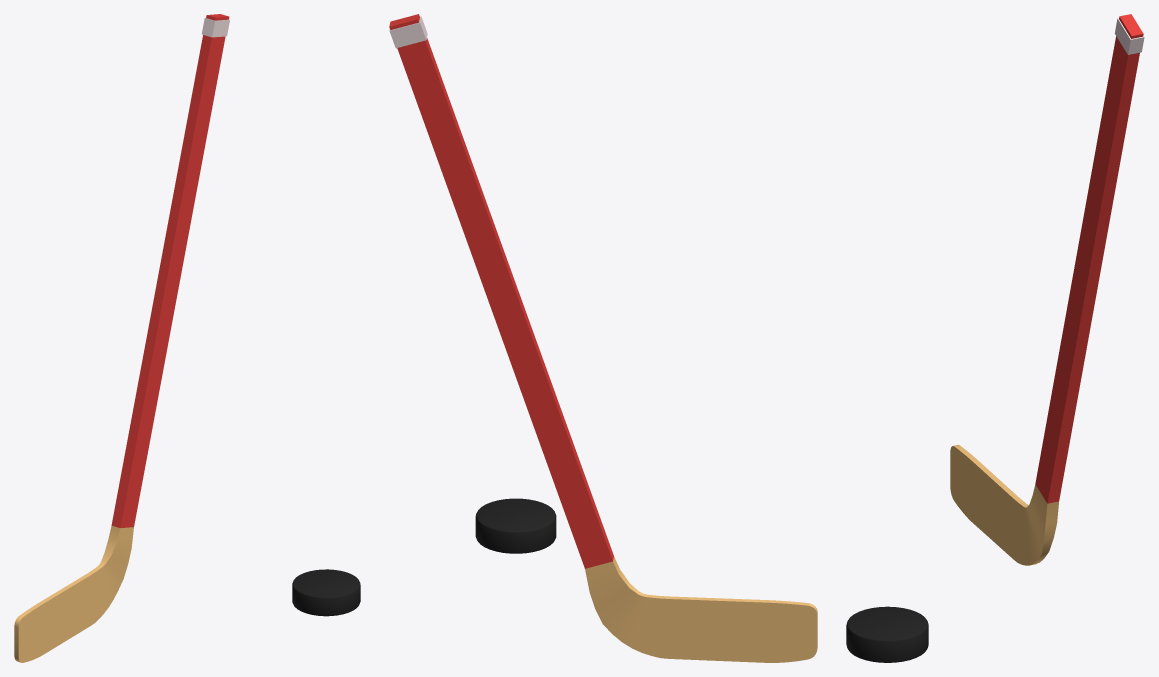
File: ice_hockey.gltf
3 renders of one model, left to right at view 1: azimuth 30°, elevation 25°; view 2: azimuth 150°, elevation 25°; view 3: azimuth 270°, elevation 25°, orthographic. The views are drawn at different scales.
Parts seen in each view (by area): view 1: Cube.820; view 2: Cube.820; view 3: Cube.820.
Part boxes in pixels (x1,y1,x2,y2): Cube.820: (14, 14, 360, 662); Cube.820: (389, 14, 817, 662); Cube.820: (846, 14, 1144, 662).
Bounding box in the file's own units: 1.46 × 2.39 × 1.
1 material, 1 textured.
